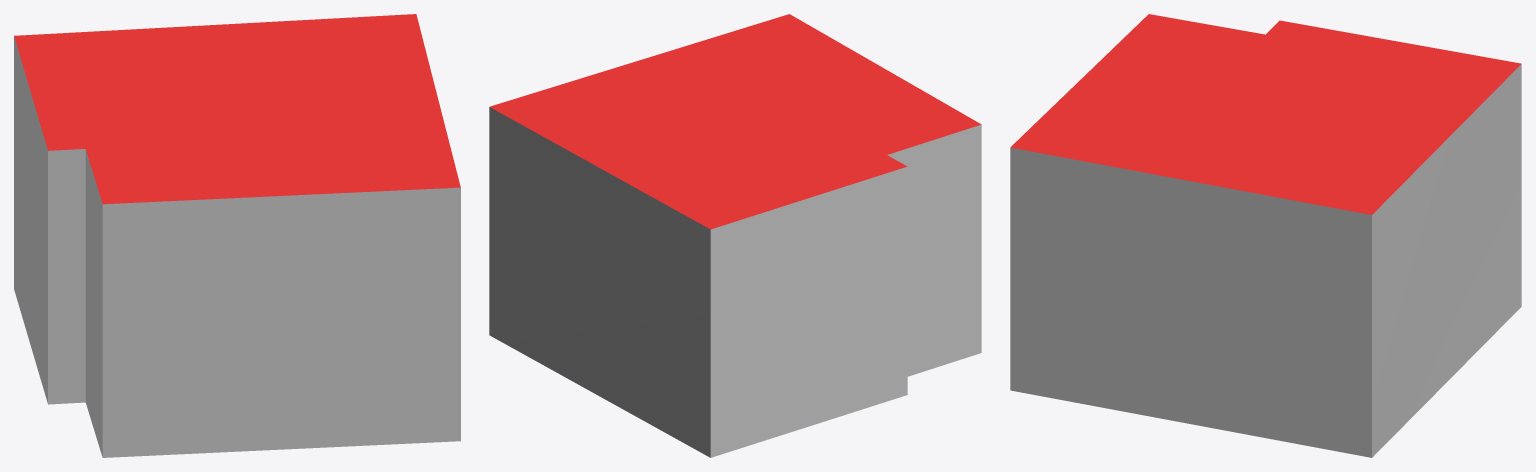
File: DEBY_LOD2_4908142.dae
3 views of the same model, side by side, from view 1: azimuth 30°, elevation 25°; view 2: azimuth 150°, elevation 25°; view 3: azimuth 270°, elevation 25° (orthographic). The views are drawn at different scales.
Size of the model in its own units: 8.1 by 8.71 by 4.56.
